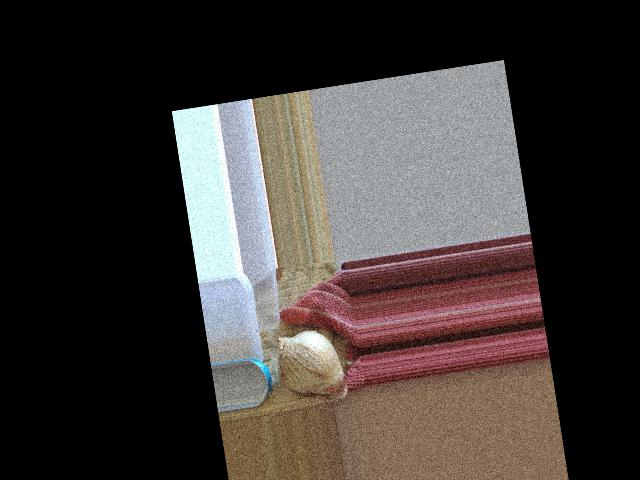onion: (272, 326, 349, 406)
